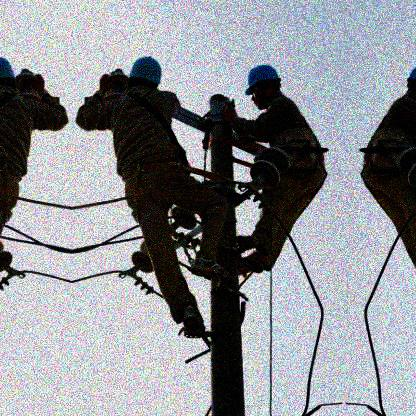helmet: (244, 65, 281, 105), (127, 56, 163, 92)
